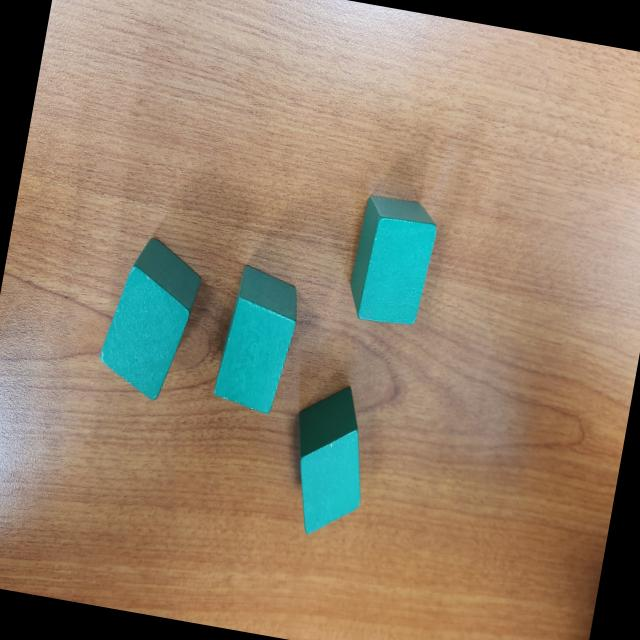green: (93, 231, 208, 405), (276, 376, 379, 540), (210, 263, 304, 416), (343, 190, 441, 330)
